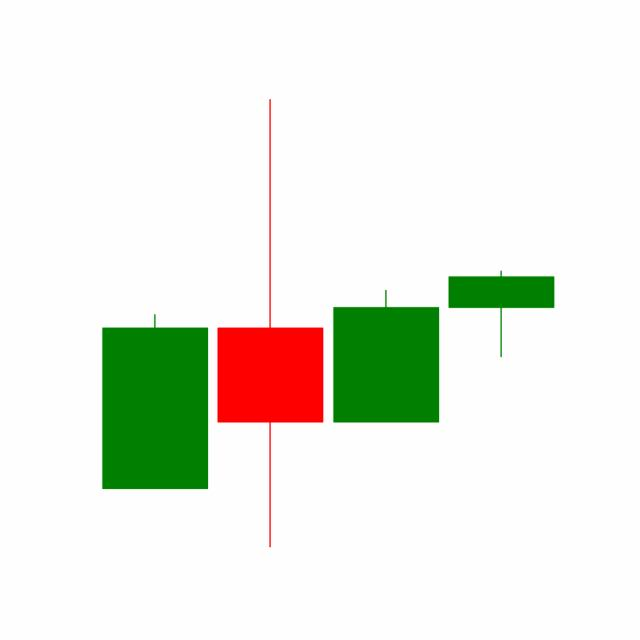Marubozu: (328, 288, 444, 424)
